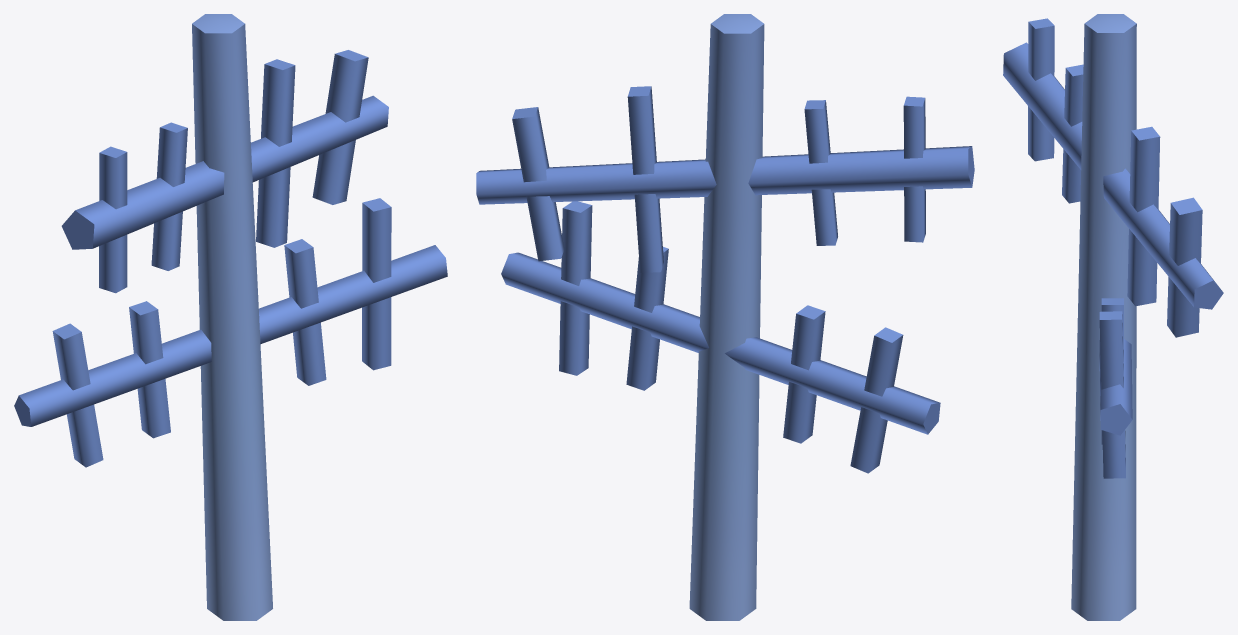
Rendered from Antene_1_C_1.fbx.
3 views of the same model, side by side, from view 1: azimuth 30°, elevation 25°; view 2: azimuth 150°, elevation 25°; view 3: azimuth 270°, elevation 25° (orthographic). The views are drawn at different scales.
Parts seen in each view (by area): view 1: Antene_1_C_1; view 2: Antene_1_C_1; view 3: Antene_1_C_1.
Part boxes in pixels (x1=…): Antene_1_C_1: x1=14, y1=14, x2=447, y2=620; Antene_1_C_1: x1=476, y1=14, x2=974, y2=620; Antene_1_C_1: x1=1003, y1=14, x2=1223, y2=620.
Bounding box in the file's own units: 67.19 × 90.15 × 31.08.
